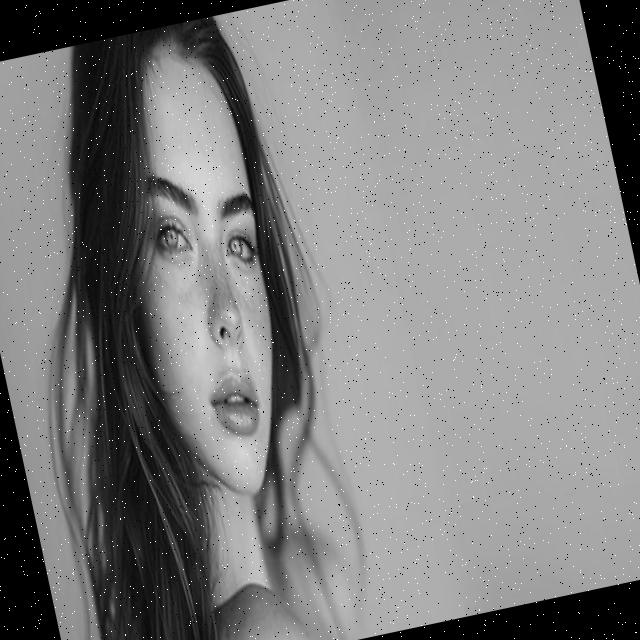Neutral: (88, 44, 313, 509)
